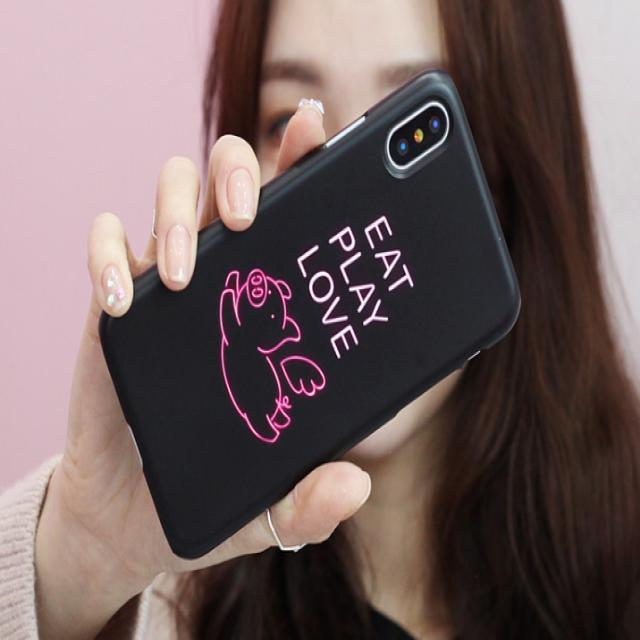phone: (100, 72, 520, 560)
